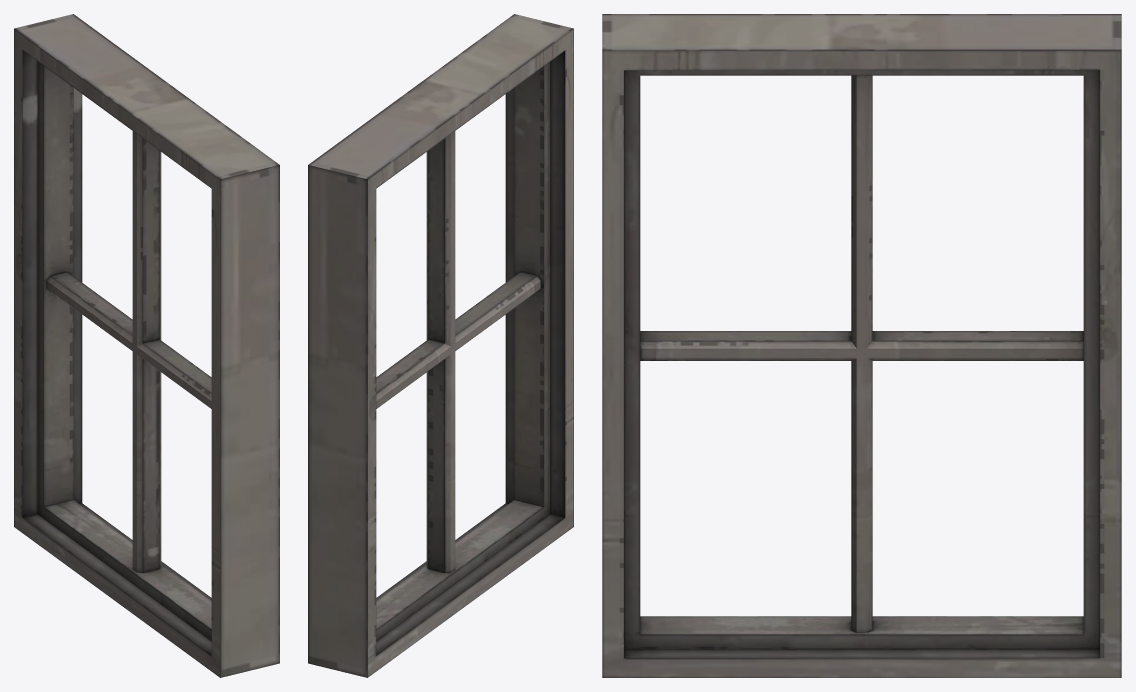
3 renders of one model, left to right at view 1: azimuth 30°, elevation 25°; view 2: azimuth 150°, elevation 25°; view 3: azimuth 270°, elevation 25°, orthographic. The views are drawn at different scales.
Parts seen in each view (by area): view 1: body0_model0_lod0_mesh0; view 2: body0_model0_lod0_mesh0; view 3: body0_model0_lod0_mesh0.
Part boxes in pixels (x1,y1,x2,y2): body0_model0_lod0_mesh0: (14, 14, 279, 677); body0_model0_lod0_mesh0: (308, 14, 573, 677); body0_model0_lod0_mesh0: (602, 14, 1121, 677).
Size of the model in its own units: 8 by 64 by 48.
Materials: 1 (1 with a texture image).
